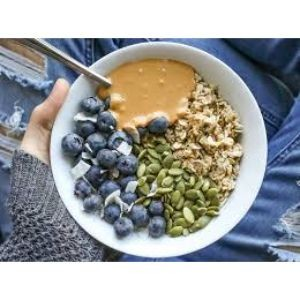oat_brain food: (155, 86, 241, 226)
